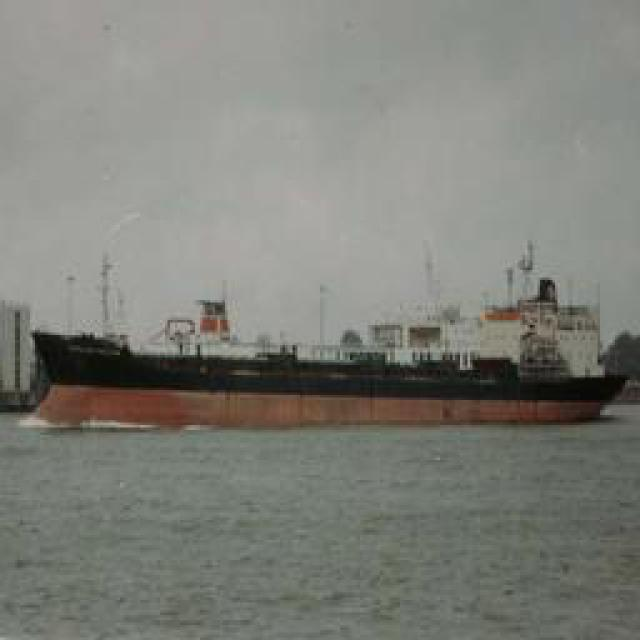Ship: (15, 286, 633, 416)
